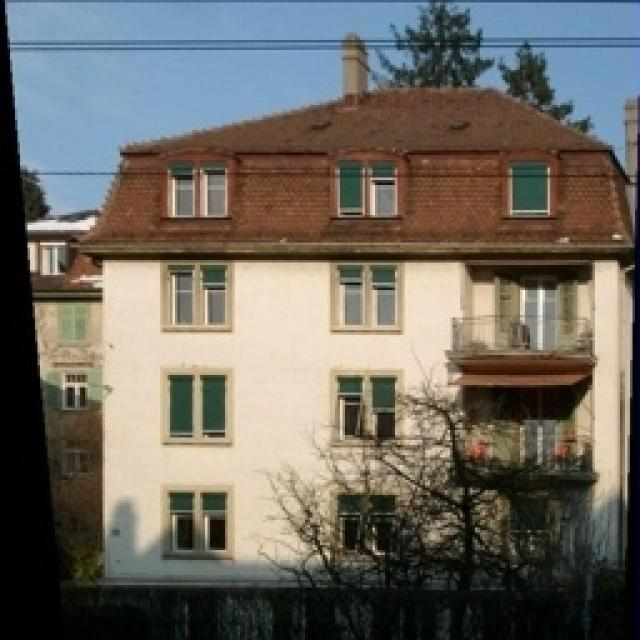building: (75, 23, 640, 625)
